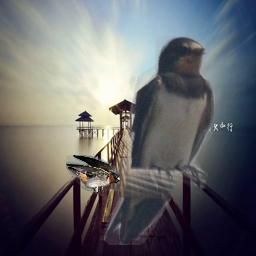Swallow: (104, 36, 215, 245), (66, 155, 120, 196)
